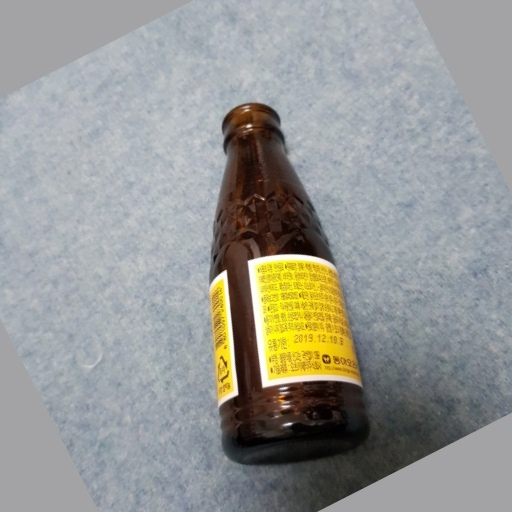Glass_3: (204, 100, 372, 469)
